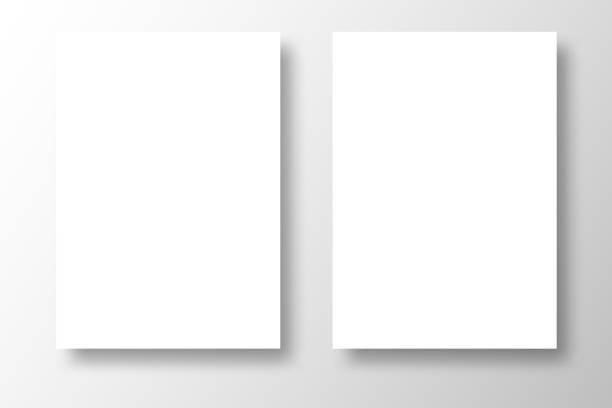dikdortgen: (52, 28, 284, 353), (331, 28, 560, 351)
